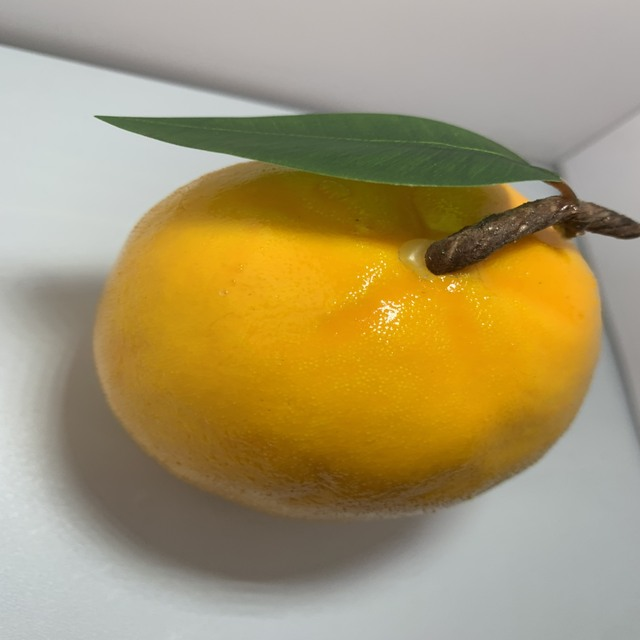Cam vang: (88, 107, 614, 526)
